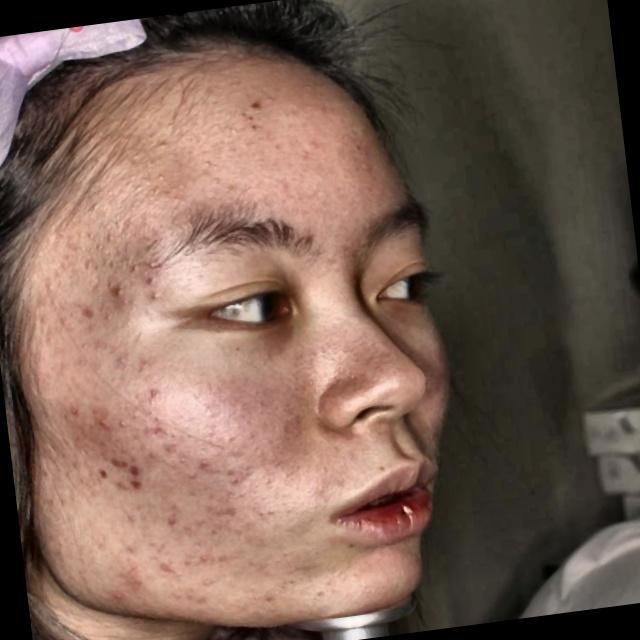comedone: (73, 299, 102, 326), (122, 465, 151, 491), (102, 451, 125, 471), (105, 284, 127, 302)
